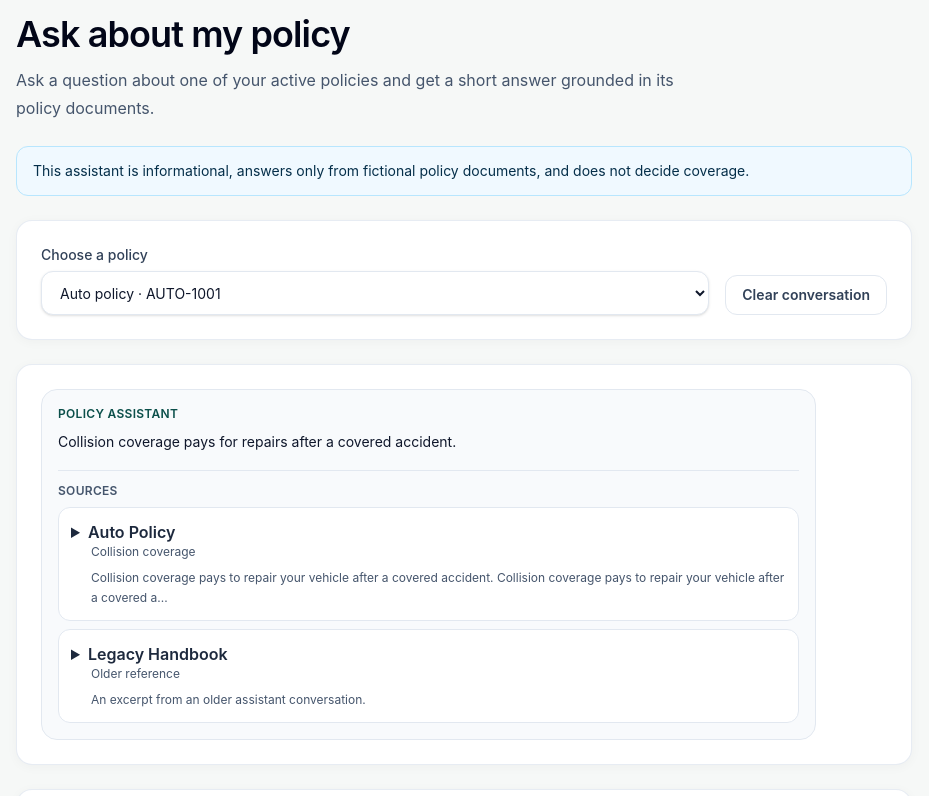
Test: policy assistant › previews collapsed sources, expands their full text, highlights the best sentence, and labels older excerpts
Expected: the text "Policy assistant" is shown, [58, 406, 178, 421]
Expected: the text with class "source-preview" shows "...", [71, 568, 786, 608]
Step 1. Click the text "Auto Policy" → click(132, 532), box [88, 522, 175, 542]
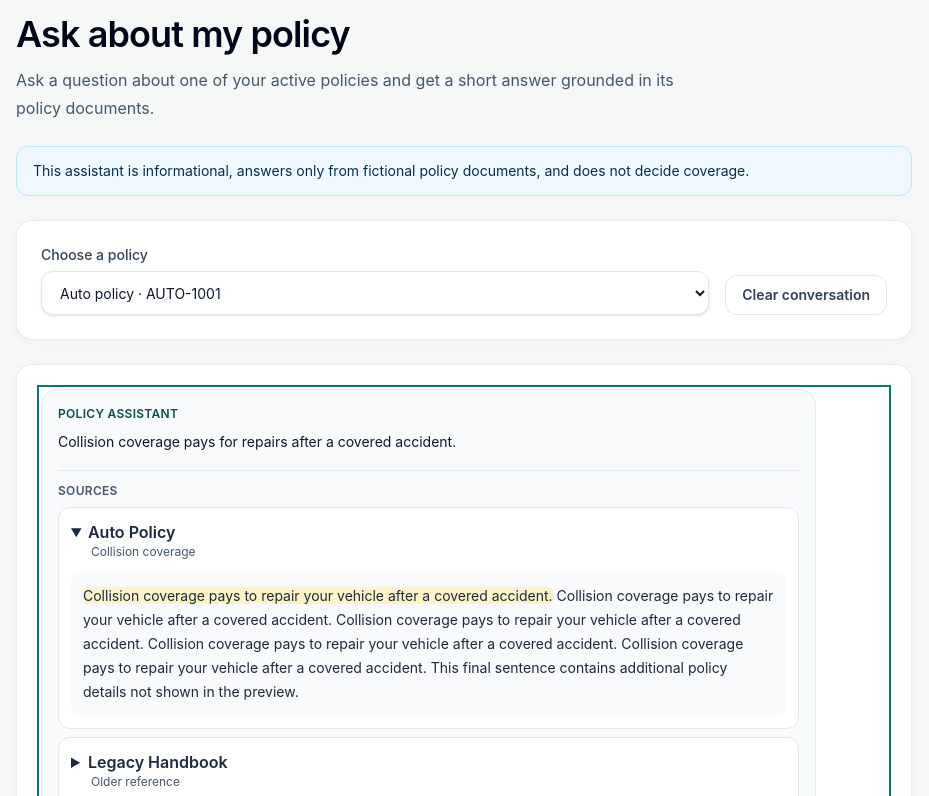
Expected: the text "This final sentence contains additional policy details" is shown, [83, 659, 731, 700]
Step 2. Click the text "Legacy Handbook" → click(158, 762), box [88, 752, 228, 772]
(page scrolled)
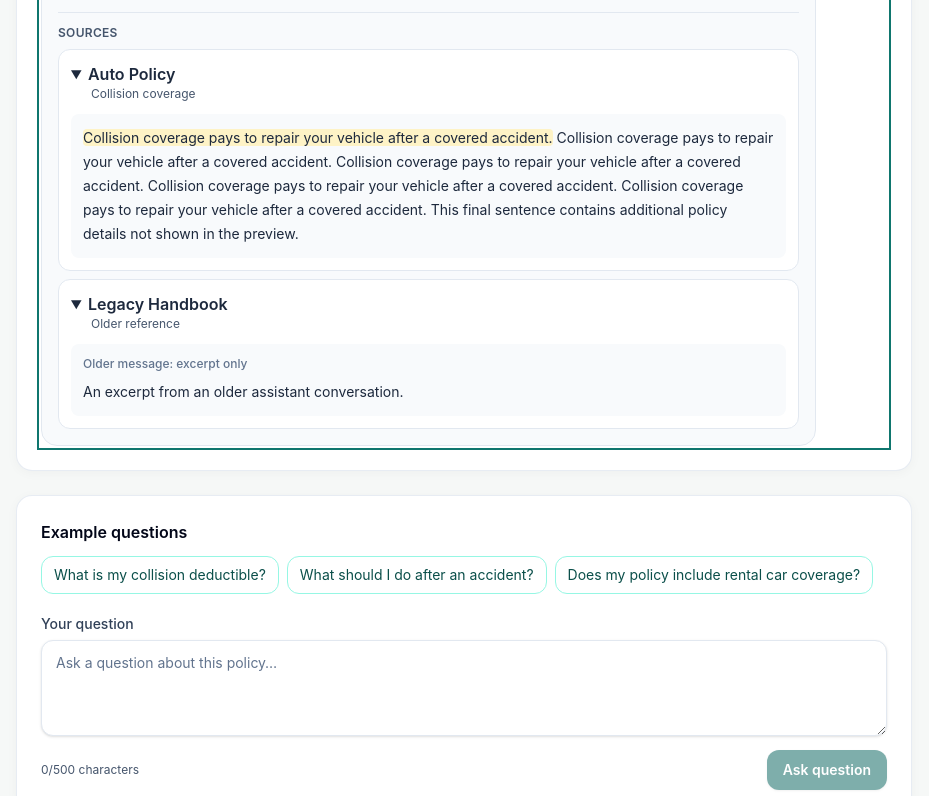
Expected: the text "An excerpt from an older assistant conversation." is shown, [83, 383, 404, 400]
Expected: the text "Older message: excerpt only" is shown, [83, 356, 248, 371]
